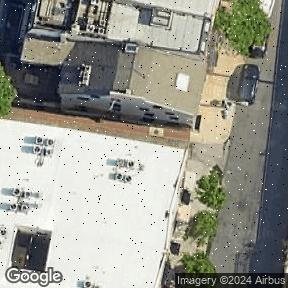vegetation: (180, 162, 234, 254), (180, 252, 215, 273), (0, 65, 14, 116)
